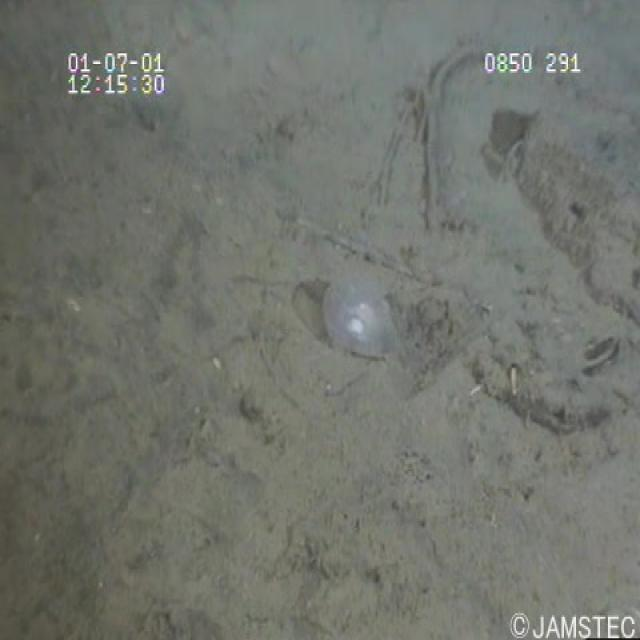plastic: (316, 263, 413, 381)
